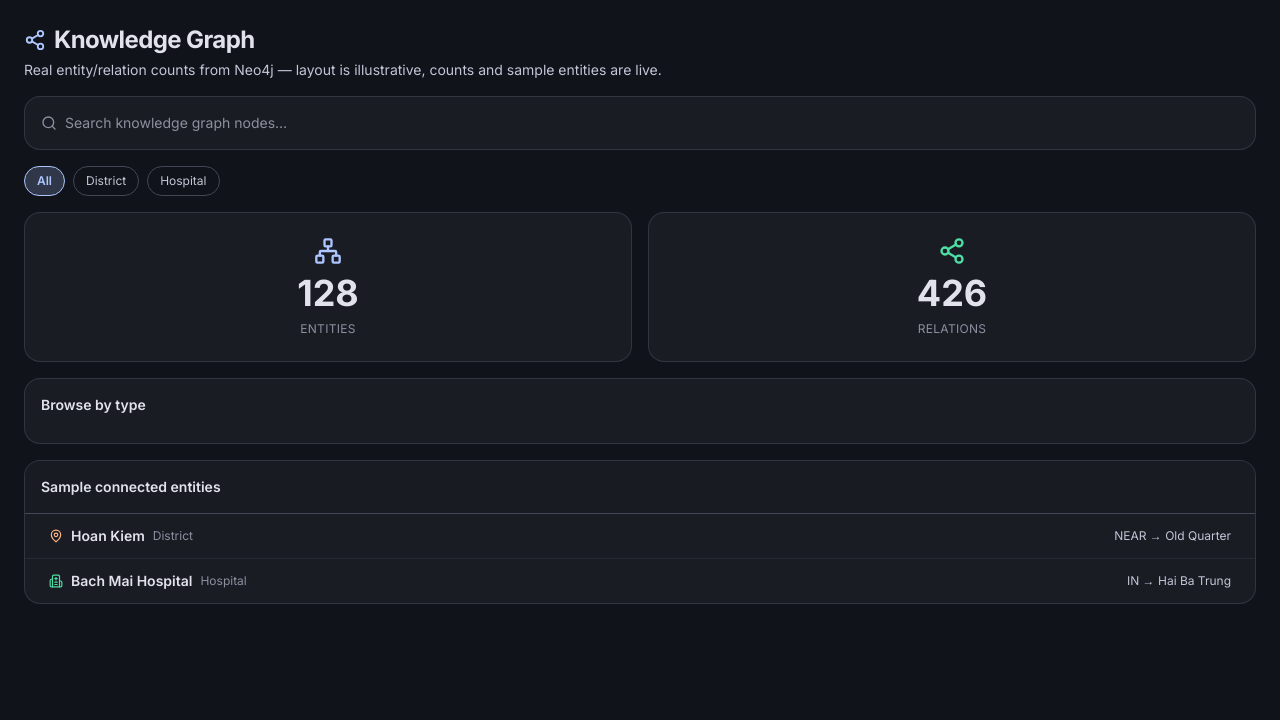
Scenario: KnowledgeGraphPage › clicking a label filter chip narrows the sample rows to that entity type
The width and height of the screenshot is (1280, 720).
Expected: the number of buttons with test id "knowledge-sample-row" is 2, [25,514,1255,558]; [25,558,1255,603]
Click the button "Hospital".
click(183, 181)  # box [147,166,220,196]
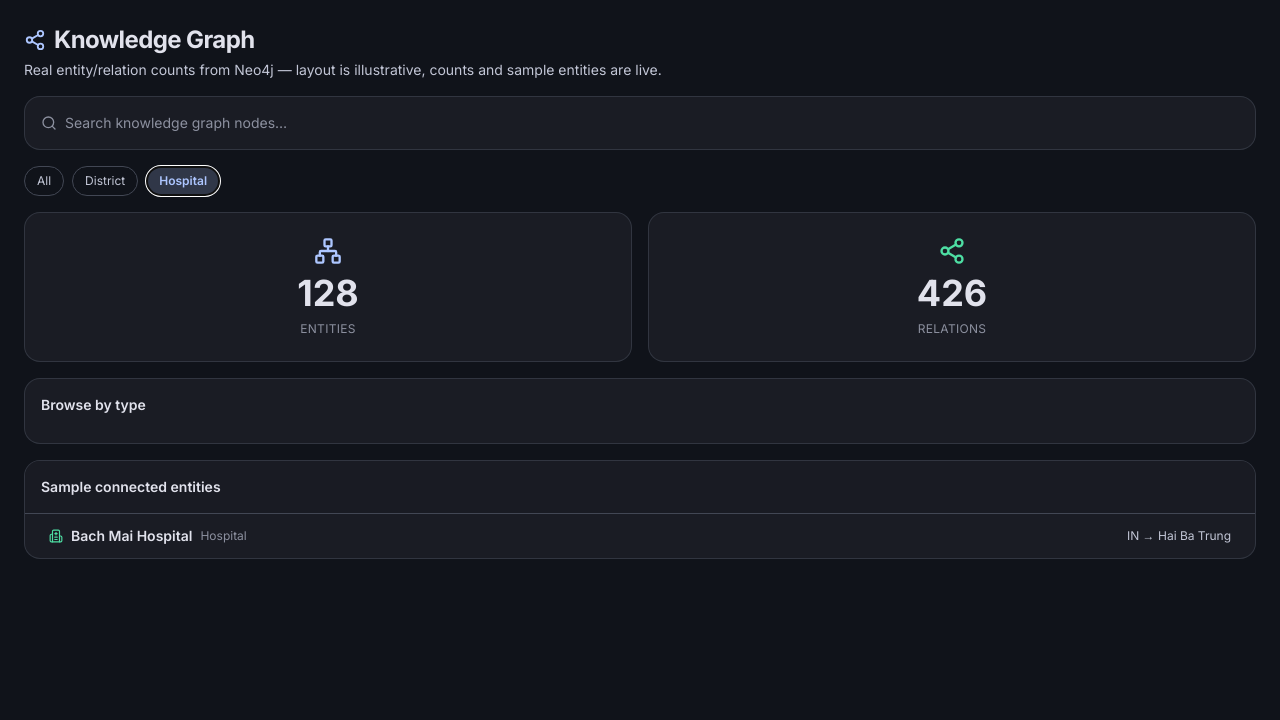
Expected: the number of buttons with test id "knowledge-sample-row" is 1, [25,514,1255,558]
Expected: the text "Bach Mai Hospital" is shown, [71,526,192,546]
